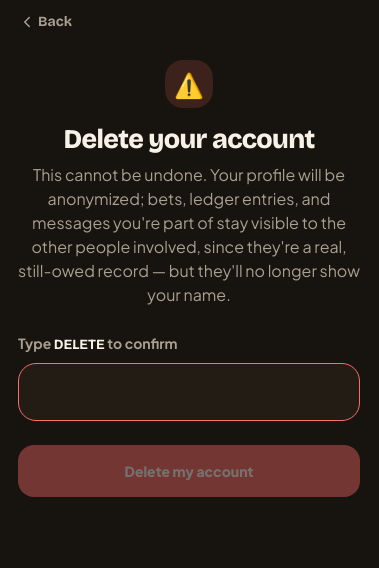
it: DeleteAccountScreen › shows an error message when the deletion request fails
This screenshot has width=379, height=568.
Step 1. Type "DELETE" into the field → (189, 392), box [18,363,360,421]
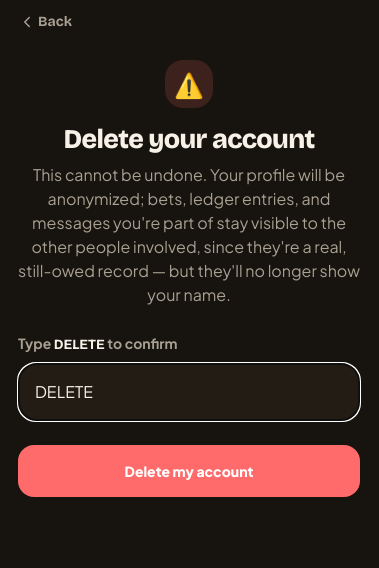
Step 2. Click the button "Delete my account" → (189, 471), box [18,445,360,497]
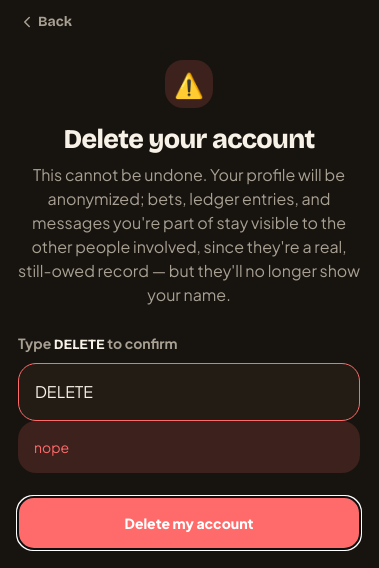
Check: the text "nope" is shown, box [18,421,360,473]
